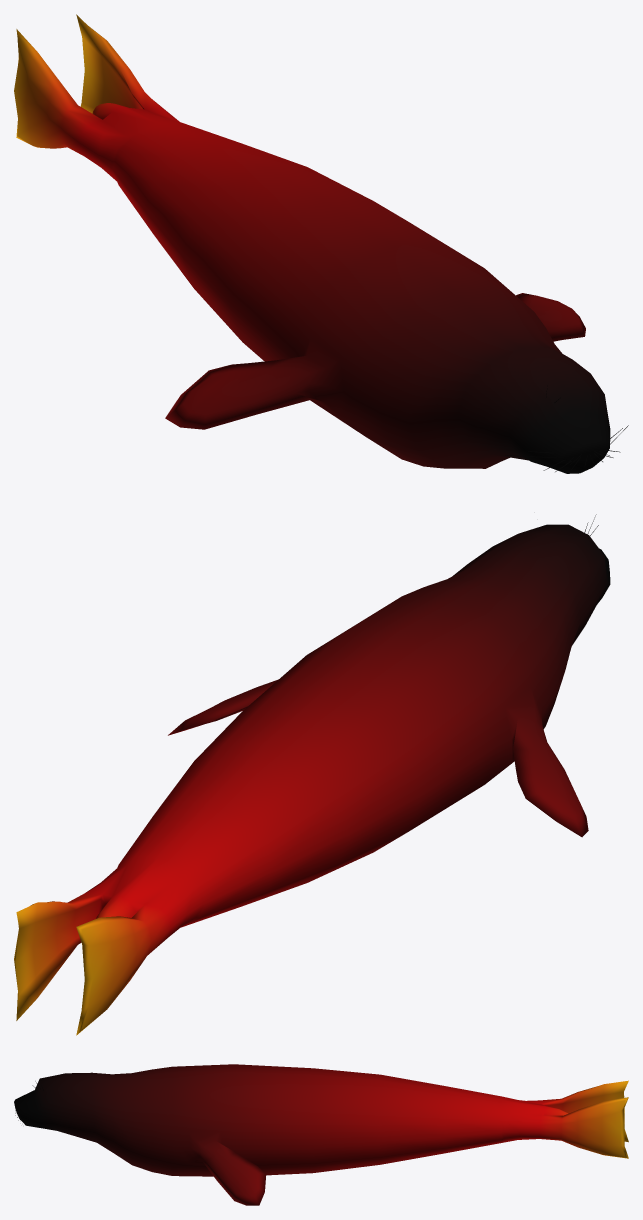
3 renders of one model, top to bottom at view 1: azimuth 30°, elevation 25°; view 2: azimuth 150°, elevation 25°; view 3: azimuth 270°, elevation 25°, orthographic. The views are drawn at different scales.
Parts seen in each view (by area): view 1: monk seal_final; view 2: monk seal_final; view 3: monk seal_final.
Part boxes in pixels (<box>): monk seal_final: <box>14,14,628,473</box>; monk seal_final: <box>14,514,610,1035</box>; monk seal_final: <box>14,1064,628,1205</box>.
Bounding box in the file's own units: 0.9225 × 0.3661 × 2.1.
